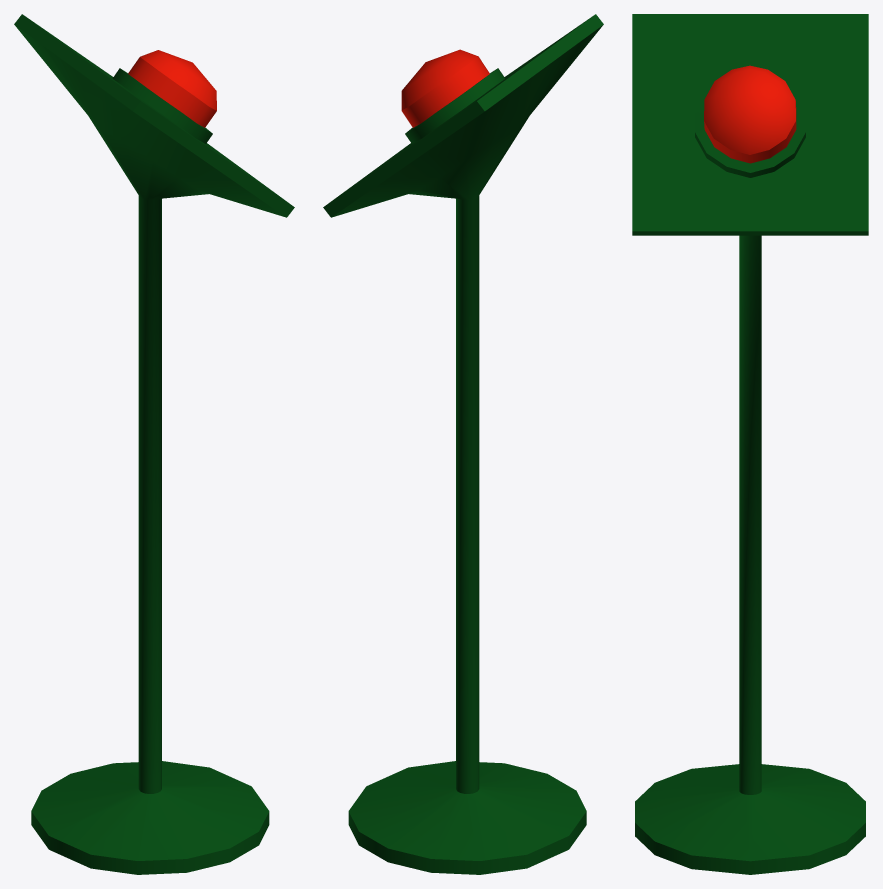
Rendered from Cтойка.fbx.
The picture shows the model from 3 angles, left to right: view 1: azimuth 30°, elevation 25°; view 2: azimuth 150°, elevation 25°; view 3: azimuth 270°, elevation 25°; orthographic projection.
Parts seen in each view (by area): view 1: Cylinder, Cylinder.001; view 2: Cylinder, Cylinder.001; view 3: Cylinder, Cylinder.001.
Part boxes in pixels (x1,y1,x2,y2): Cylinder: (14,14,294,874); Cylinder.001: (128,50,216,127); Cylinder: (323,14,603,874); Cylinder.001: (401,49,489,127); Cylinder: (632,14,868,874); Cylinder.001: (704,65,796,163).
Size of the model in its own units: 197 by 727 by 200.
